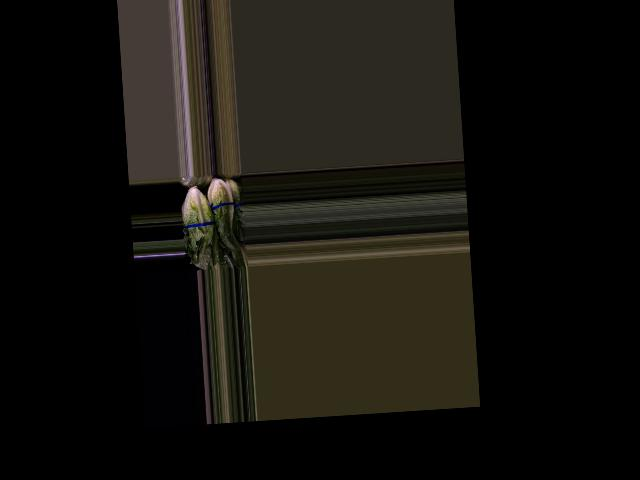lettuce: (206, 175, 242, 253)
